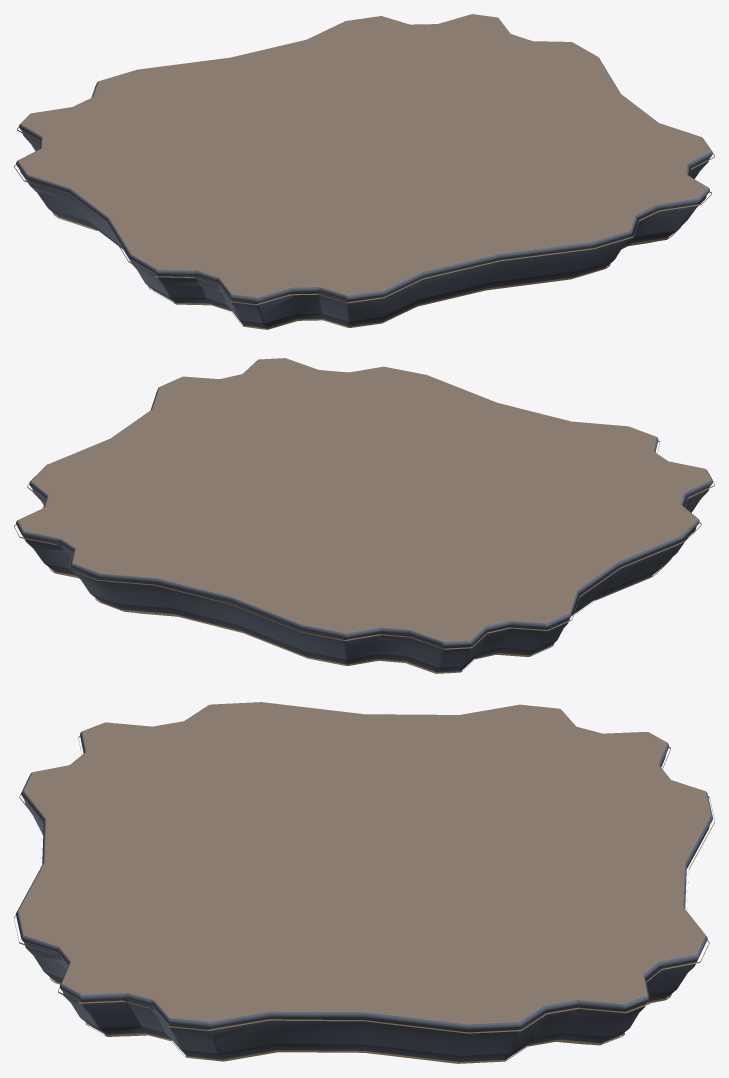
File: chapter_terrace_2_0.glb
3 renders of one model, top to bottom at view 1: azimuth 30°, elevation 25°; view 2: azimuth 150°, elevation 25°; view 3: azimuth 270°, elevation 25°, orthographic. The views are drawn at different scales.
Visible parts, largest first — view 1: Clockwork midnight fascia, Worn champagne bronze; view 2: Clockwork midnight fascia, Worn champagne bronze; view 3: Clockwork midnight fascia, Worn champagne bronze.
Part boxes in pixels (x1,y1,x2,y2): Clockwork midnight fascia: (16, 14, 712, 328); Worn champagne bronze: (14, 86, 714, 329); Clockwork midnight fascia: (16, 358, 712, 672); Worn champagne bronze: (14, 391, 714, 673); Clockwork midnight fascia: (16, 702, 712, 1061); Worn champagne bronze: (14, 736, 714, 1063).
Size of the model in its own units: 22.08 by 1.94 by 20.08.
